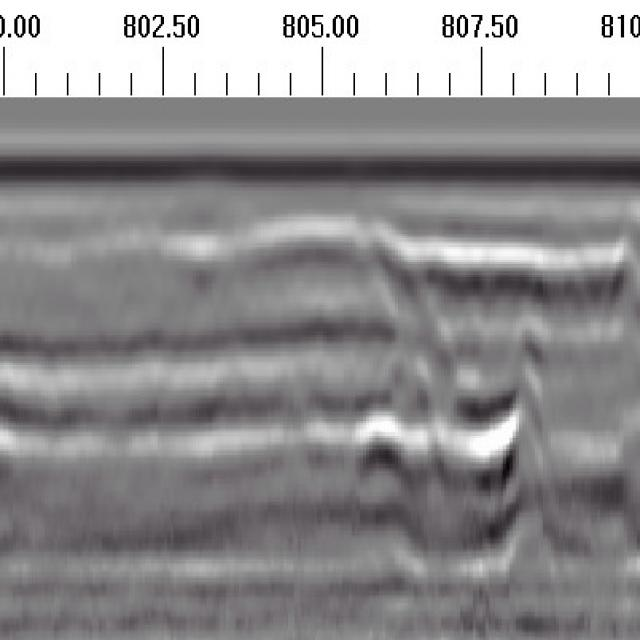loose: (351, 212, 627, 568)
